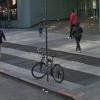Bicycle: (30, 48, 66, 89)
